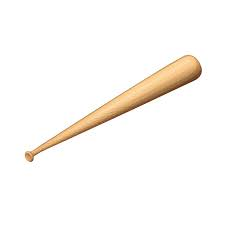baseball bat: (23, 53, 202, 162)
